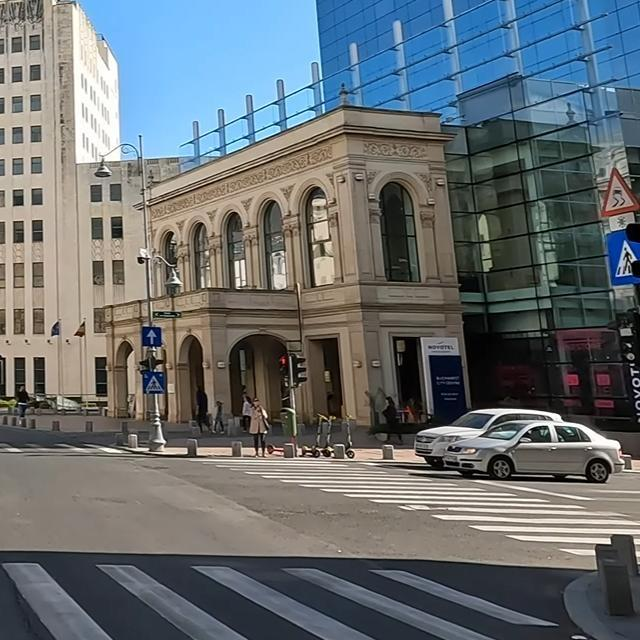info_crosswalk: (602, 225, 640, 287), (142, 371, 167, 394)
